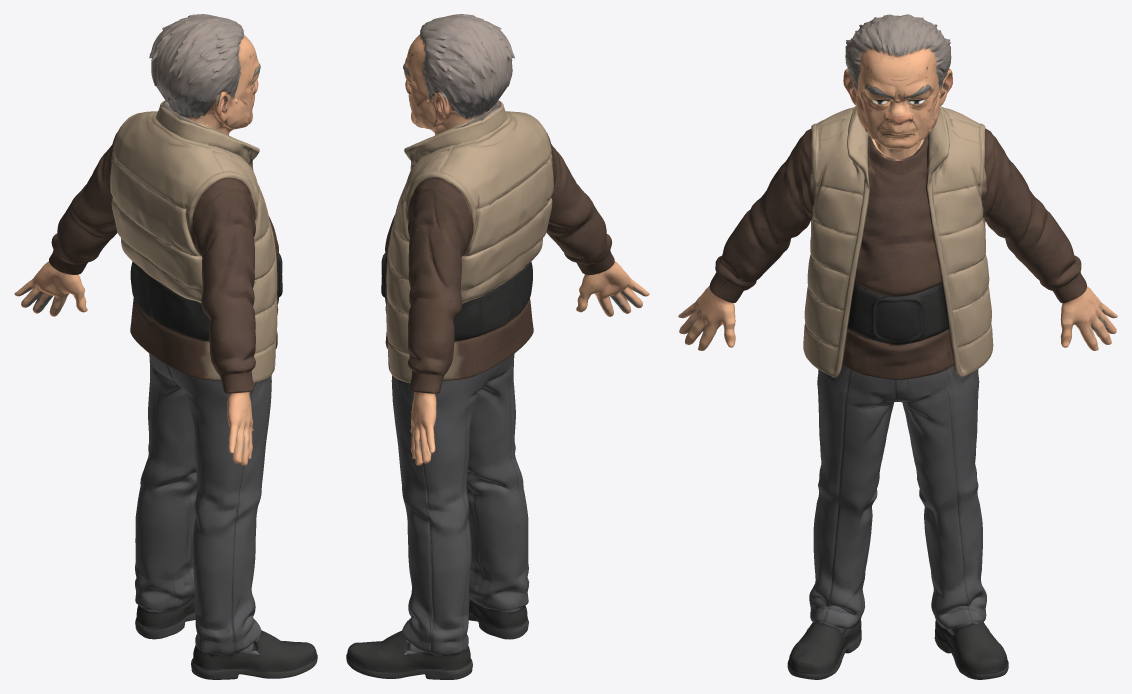
The model's file is choi_tripo.glb.
3 views of the same model, side by side, from view 1: azimuth 30°, elevation 25°; view 2: azimuth 150°, elevation 25°; view 3: azimuth 270°, elevation 25° (orthographic).
Visible parts, largest first — view 1: tripo_node_df1a57ce-b487-4322-b677-8aa49563c7b8; view 2: tripo_node_df1a57ce-b487-4322-b677-8aa49563c7b8; view 3: tripo_node_df1a57ce-b487-4322-b677-8aa49563c7b8.
Part boxes in pixels (left/top/right/bottom): tripo_node_df1a57ce-b487-4322-b677-8aa49563c7b8: left=14, top=14, right=317, bottom=679; tripo_node_df1a57ce-b487-4322-b677-8aa49563c7b8: left=346, top=14, right=649, bottom=679; tripo_node_df1a57ce-b487-4322-b677-8aa49563c7b8: left=678, top=14, right=1117, bottom=679.
Size of the model in its own units: 0.2545 by 1 by 0.6292.
Materials: 1 (1 with a texture image).
